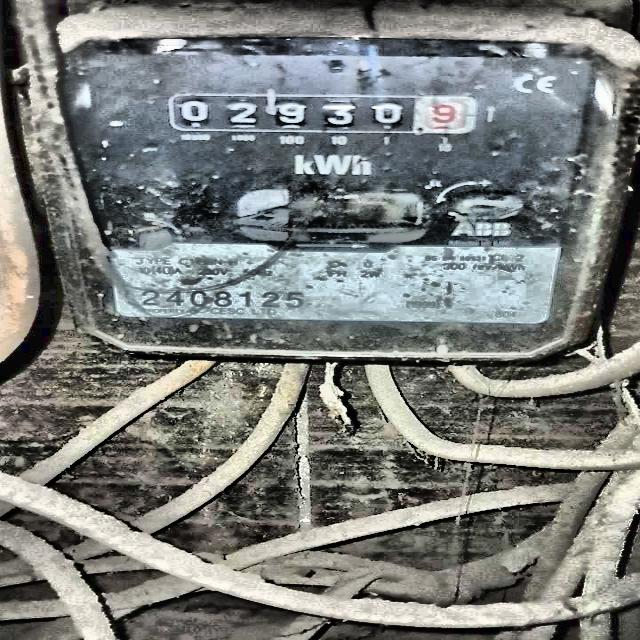Analog: (15, 0, 640, 364)
Reading: (178, 98, 467, 130)
Serial No.: (138, 290, 312, 308)
